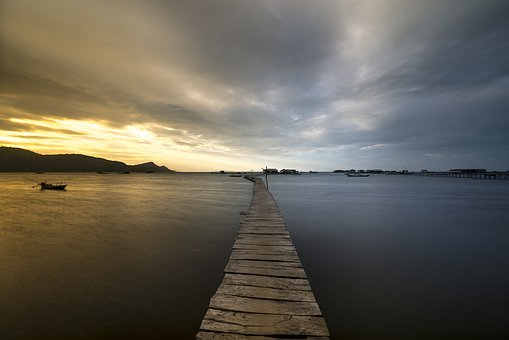sea: (8, 170, 504, 338)
sky: (1, 1, 501, 173)
